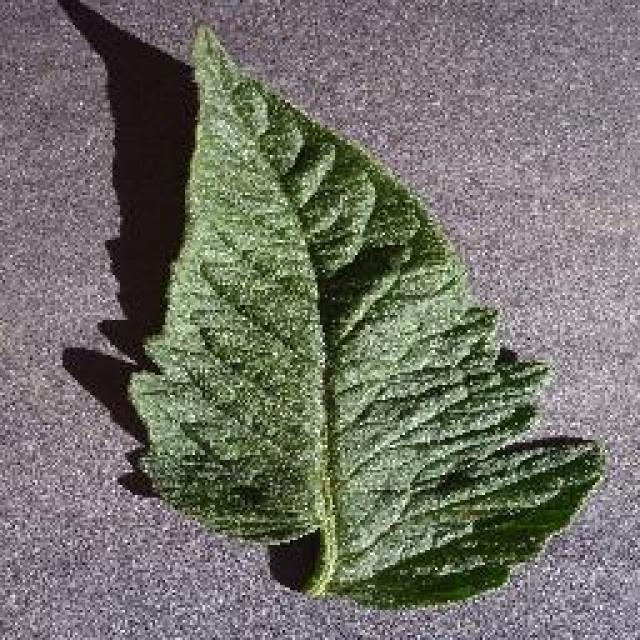Tomato healthy leaf: (135, 25, 600, 605)
